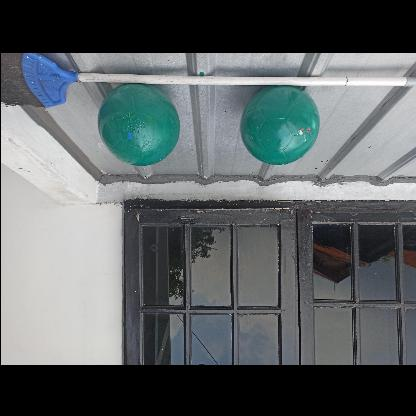green_ball: (95, 82, 179, 166), (239, 84, 318, 164)
